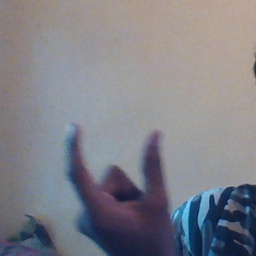U: (60, 117, 177, 252)
